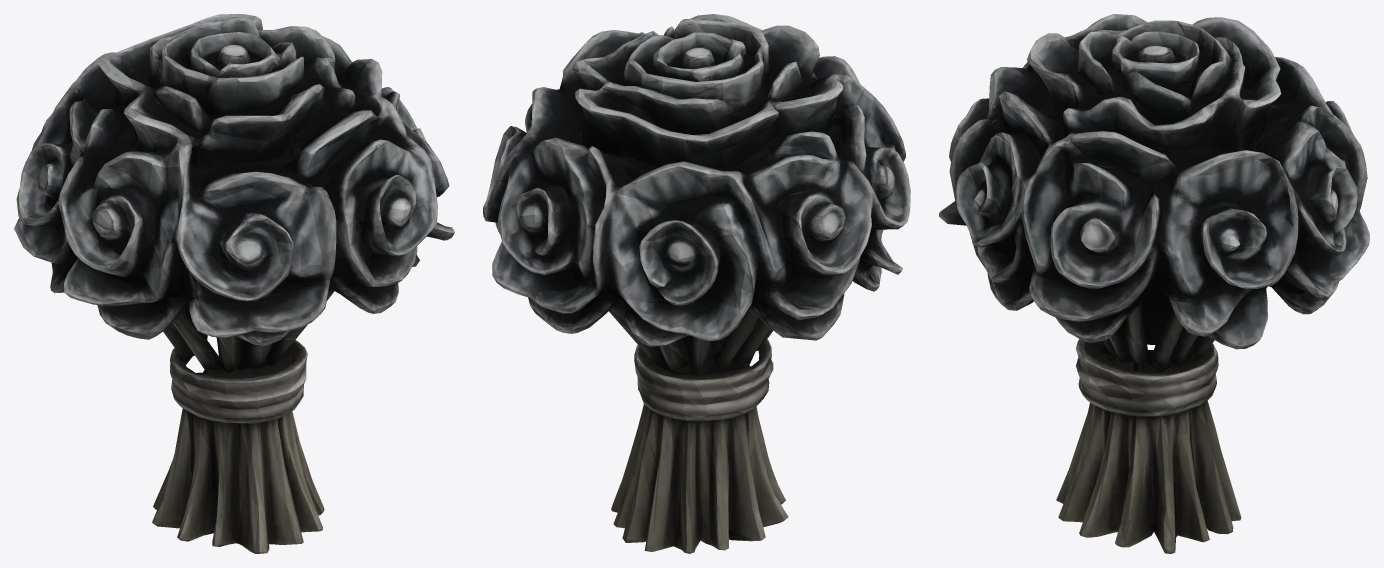
The model's file is rose-bouquet.glb.
The picture shows the model from 3 angles, left to right: view 1: azimuth 30°, elevation 25°; view 2: azimuth 150°, elevation 25°; view 3: azimuth 270°, elevation 25°; orthographic projection.
Visible parts, largest first — view 1: world; view 2: world; view 3: world.
Boxes of the visible parts, left/top/right/bottom form: world: left=14, top=14, right=454, bottom=553; world: left=483, top=14, right=910, bottom=553; world: left=939, top=14, right=1369, bottom=553.
Bounding box in the file's own units: 0.8189 × 0.9911 × 0.8224.
1 material, 1 textured.
